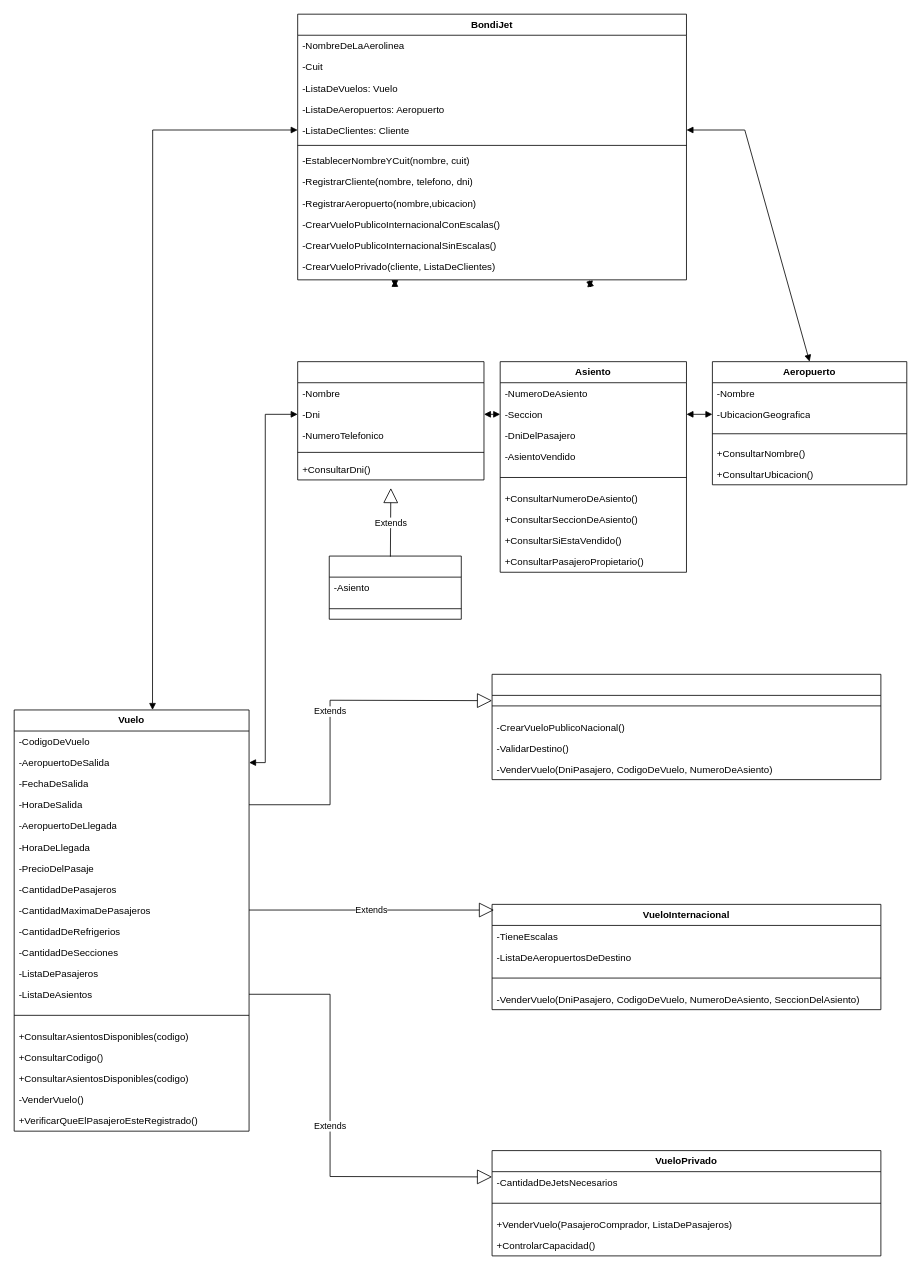
This 921x1273 diagram has some shape labels left out. The shapes that lost their labels are listed below. From the top down, each one's box as (x1, y1, x2, y2) in pixels, then its label:
(297, 361, 484, 480): Cliente
(328, 555, 461, 619): Pasajero
(491, 674, 881, 780): VueloNacional
